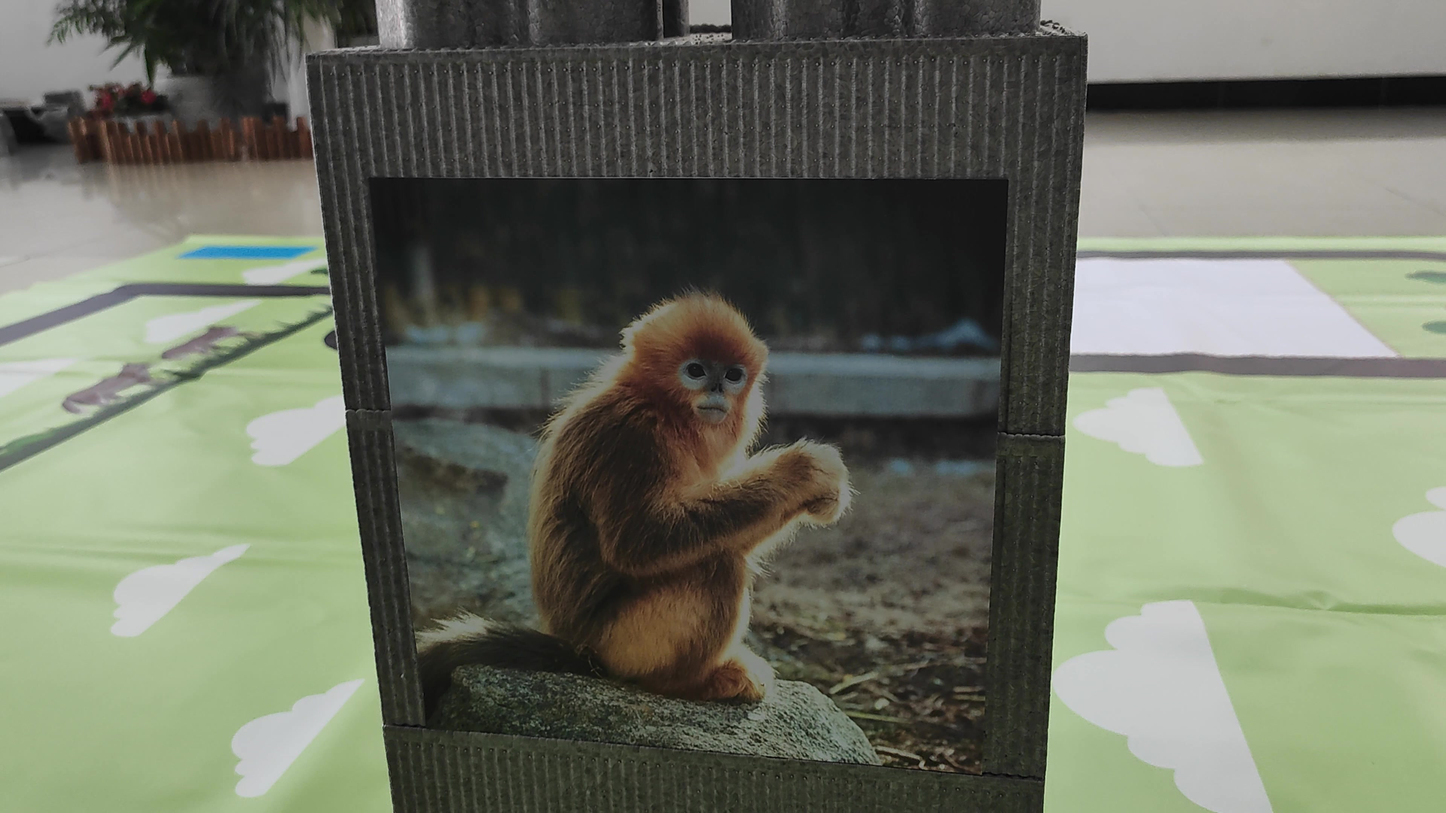monkey: (417, 268, 867, 732)
